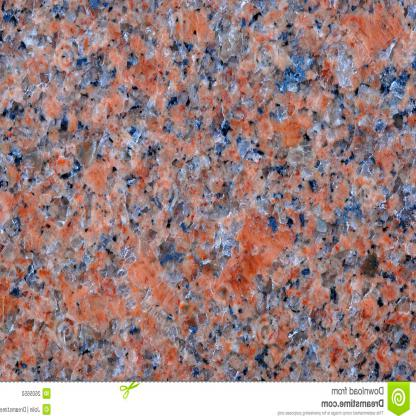Igneous_Granite: (0, 0, 411, 373)
